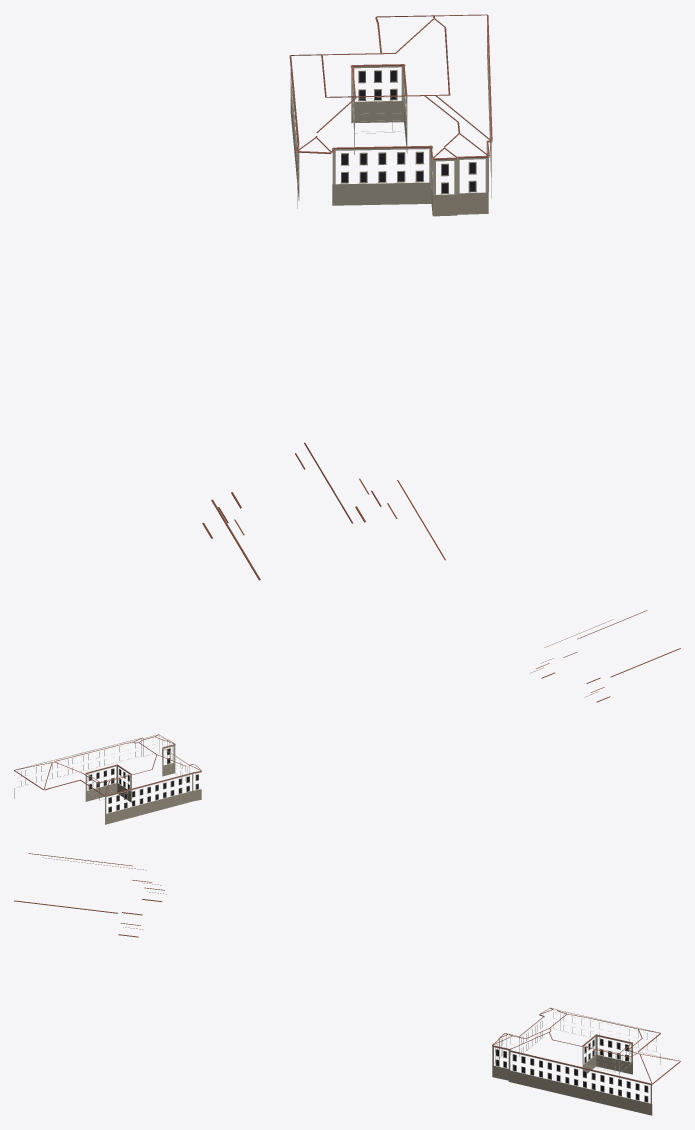
The picture shows the model from 3 angles, top to bottom: view 1: azimuth 30°, elevation 25°; view 2: azimuth 150°, elevation 25°; view 3: azimuth 270°, elevation 25°; orthographic projection. The views are drawn at different scales.
Parts seen in each view (by area): view 1: detail; view 2: detail; view 3: detail.
Boxes of the visible parts, x1=… form: detail: x1=202, y1=14, x2=492, y2=580; detail: x1=14, y1=610, x2=680, y2=824; detail: x1=14, y1=853, x2=680, y2=1115.
Bounding box in the file's own units: 179 × 29.4 × 240.
